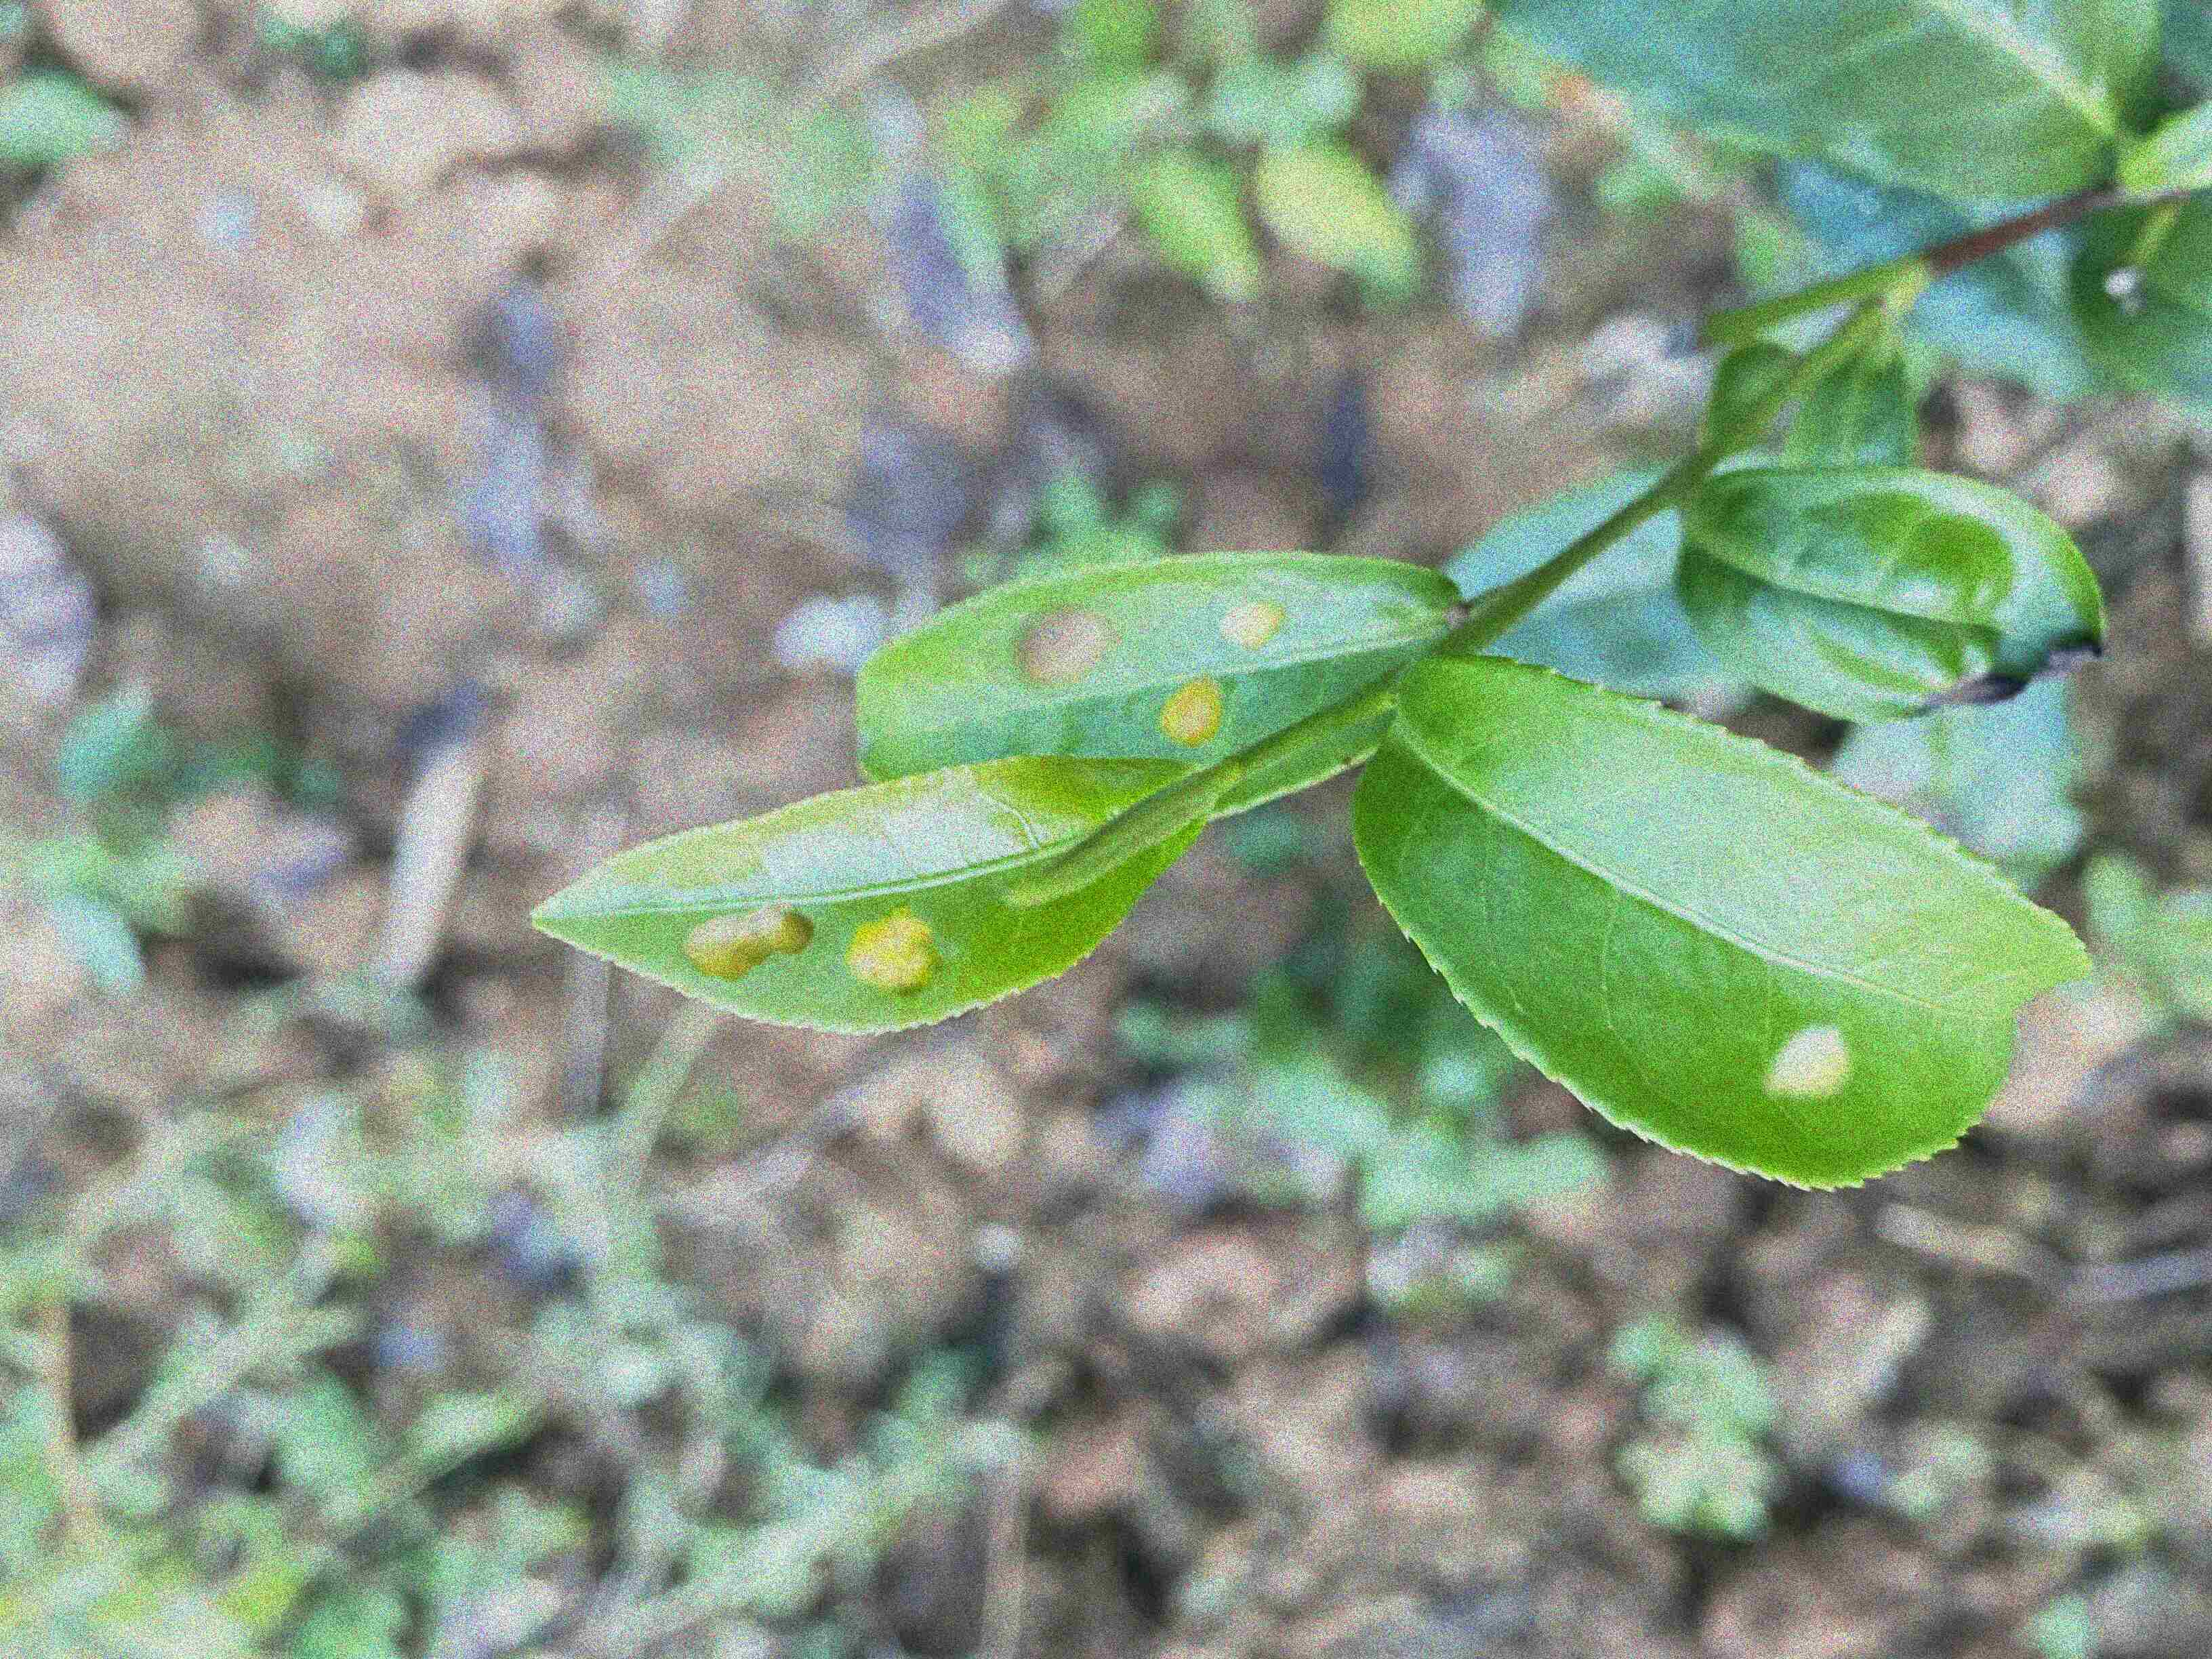chabing_high: (526, 751, 1228, 1035), (857, 552, 1467, 824)
chabing_low: (1350, 650, 2095, 1195)
tanju_high: (1669, 462, 2107, 728)
